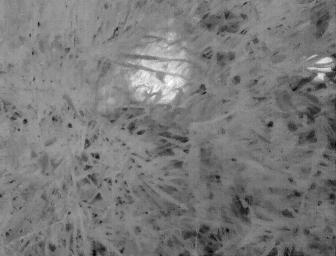landmine: (125, 26, 193, 103)
